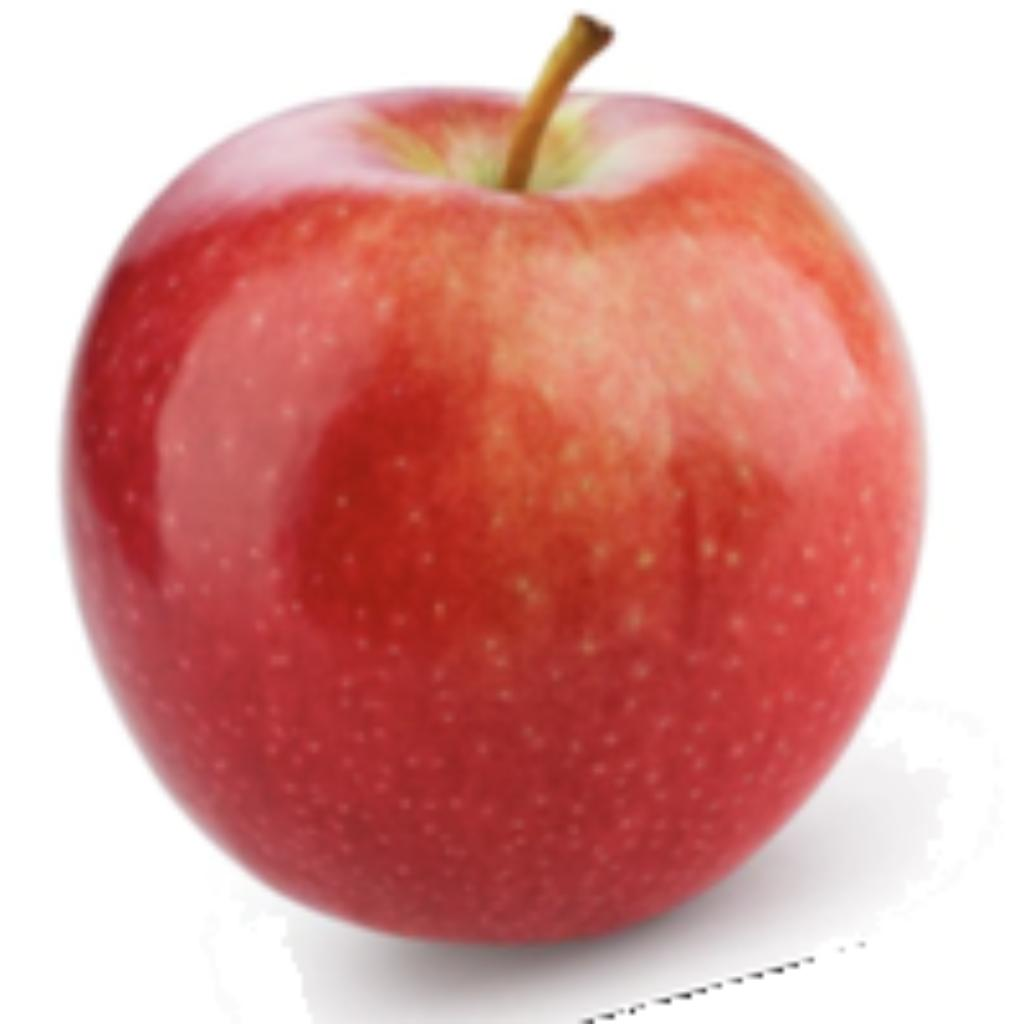apple: (51, 5, 952, 1019)
